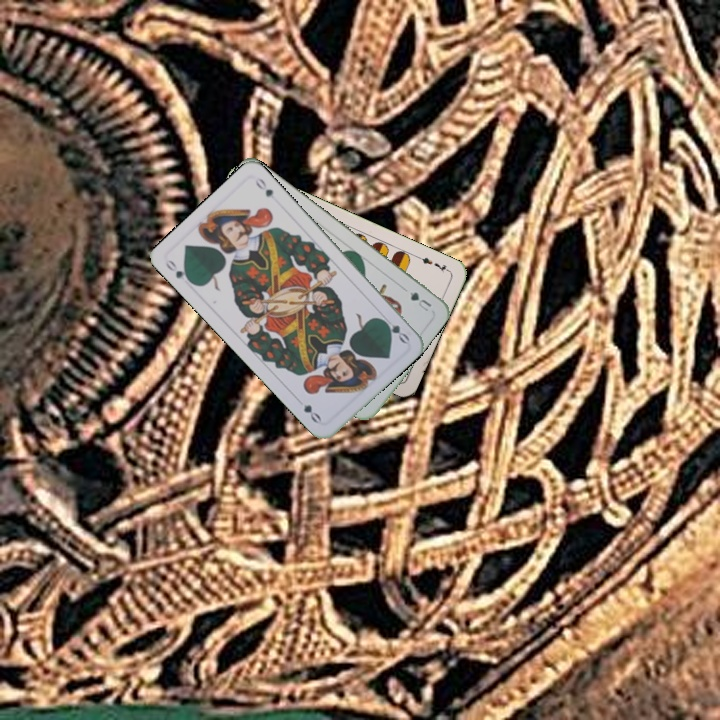E7: (414, 252, 452, 274)
GO: (377, 313, 412, 346), (161, 256, 196, 287)
GU: (406, 288, 434, 314)
